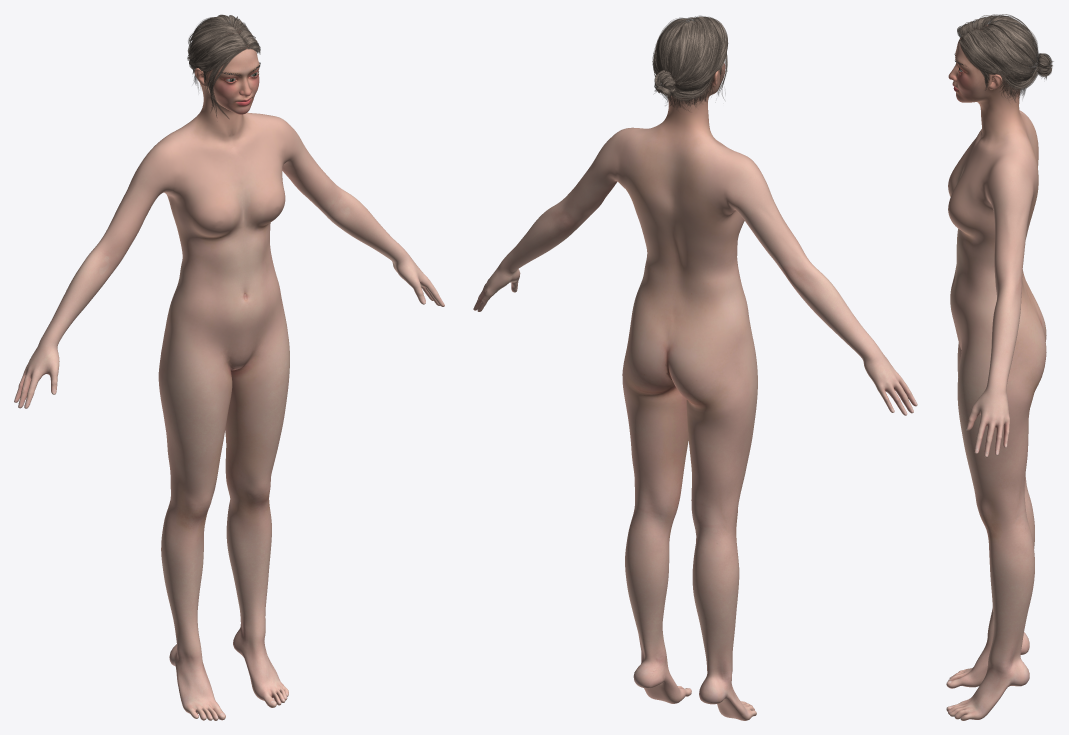
Rendered from EM-Female.glb.
The picture shows the model from 3 angles, left to right: view 1: azimuth 30°, elevation 25°; view 2: azimuth 150°, elevation 25°; view 3: azimuth 270°, elevation 25°; orthographic projection. The views are drawn at different scales.
Visible parts, largest first — view 1: Face.003, hair.001; view 2: Face.003, hair.001; view 3: Face.003, hair.001.
Part boxes in pixels (x1,y1,x2,y2): Face.003: (14, 30, 444, 720); hair.001: (187, 14, 260, 118); Face.003: (473, 63, 917, 720); hair.001: (652, 15, 728, 111); Face.003: (946, 24, 1046, 720); hair.001: (957, 14, 1053, 102).
Bounding box in the file's own units: 1.21 × 1.85 × 0.266.
Materials: 10 (10 with a texture image).
